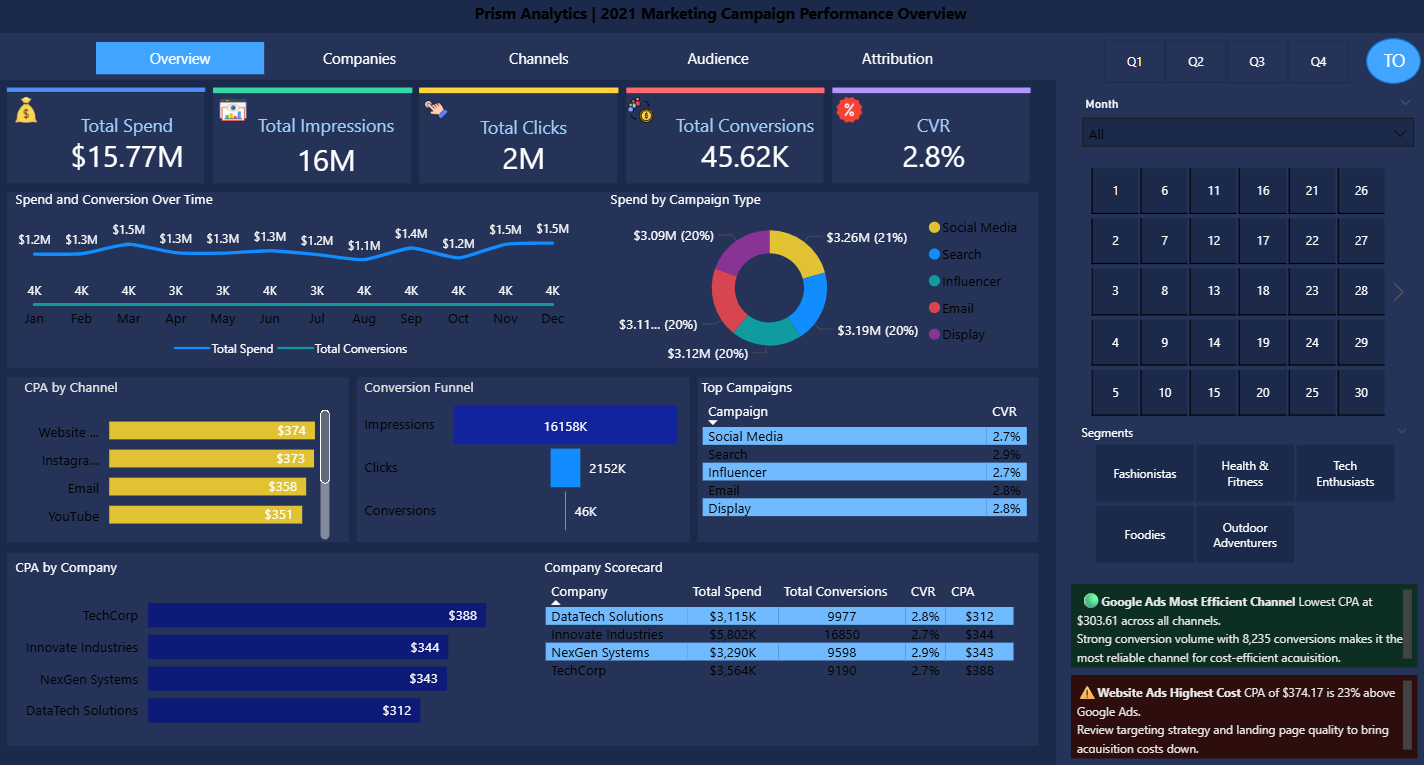

The dashboard page shown, as its layout file describes it:
{"tool":"powerbi","page":{"name":"Overview","canvas":[1280,720],"ordinal":0},"visuals":[{"type":"card","title":"Total Spend","fields":{"Values":["CalcMeasures.Total Spend"]},"box":[52.1,131.1,125.7,56.6],"z":0},{"type":"card","title":"Total Impressions","fields":{"Values":["CalcMeasures.Total Impressions"]},"box":[219.1,131.1,149,63.7],"z":1000},{"type":"card","title":"Total Conversions","fields":{"Values":["CalcMeasures.Total Conversions"]},"box":[592.5,131.1,154.4,56.6],"z":2000},{"type":"card","title":"Total Clicks","fields":{"Values":["CalcMeasures.Total Clicks"]},"box":[382.4,132.9,176.9,56.6],"z":3000},{"type":"card","title":"CVR","fields":{"Values":["CalcMeasures.CVR"]},"box":[777.5,131.1,123,56.6],"z":4000},{"type":"donutChart","title":"Spend by Campaign Type","fields":{"Category":["Dim_CampaignType.Campaign_Type"],"Y":["CalcMeasures.Total Spend"]},"box":[544,200.2,384.2,159.8],"z":5000},{"type":"clusteredBarChart","title":"CPA by Channel","fields":{"Category":["Dim_Platform.Platfrom"],"Y":["CalcMeasures.CPA"]},"box":[18,369,283.7,149.9],"z":6000},{"type":"funnel","title":"Conversion Funnel","fields":{"Category":["Stages.Stage"],"Y":["CalcMeasures.Funnel Value"]},"box":[323.2,369,295.4,145.4],"z":7000},{"type":"tableEx","title":"Top Campaigns","fields":{"Values":["Dim_CampaignType.Campaign_Type","CalcMeasures.CVR"]},"box":[625.7,369,302.5,145.4],"z":8000},{"type":"barChart","fields":{"Category":["Dim_Company.Company"],"Y":["CalcMeasures.CPA"]},"box":[9.9,530.6,464.1,165.2],"z":9000},{"type":"tableEx","title":"Company Scorecard","fields":{"Values":["Dim_Company.Company","CalcMeasures.Total Spend","CalcMeasures.Total Conversions","CalcMeasures.CVR","CalcMeasures.CPA"]},"box":[484.8,530.6,431.8,165.2],"z":10000},{"type":"slicer","fields":{"Values":["Date_Dim.Day"]},"box":[958.8,177.8,317.8,246.9],"z":11000},{"type":"slicer","fields":{"Values":["Date_Dim.Month Name"]},"box":[962.4,111.3,317.8,56.6],"z":12000},{"type":"lineChart","title":"Spend and Conversion Over Time","fields":{"Category":["Date_Dim.Month Short"],"Y":["CalcMeasures.Total Spend","CalcMeasures.Total Conversions"]},"box":[9.9,200.2,509,159.8],"z":13000},{"type":"pageNavigator","box":[87.1,67.3,795.4,29.6],"z":14000},{"type":"slicer","fields":{"Values":["Dim_Segment.Segment_Clean"]},"box":[958.8,404.9,317.8,137.4],"z":15000},{"type":"textbox","box":[962.4,553.9,310.6,75.4],"z":16000},{"type":"textbox","box":[962.4,635.6,310.6,74.5],"z":17000},{"type":"shape","box":[1227.2,63.7,49.4,41.3],"z":18000},{"type":"textbox","box":[1238,67.3,38.6,34.1],"z":19000},{"type":"advancedSlicerVisual","fields":{"Values":["Date_Dim.Quarter"]},"box":[987.5,60.1,231.6,49],"z":20000},{"type":"textbox","box":[421.9,26.9,460.5,33.2],"z":21000},{"type":"image","box":[9.9,116.7,29.6,23.3],"z":22000},{"type":"image","box":[192.1,116.7,35.9,23.3],"z":23000},{"type":"image","box":[376.2,116.7,33.2,23.3],"z":24000},{"type":"image","box":[559.3,116.7,33.2,23.3],"z":25000},{"type":"image","box":[746.9,116.7,33.2,23.3],"z":26000}]}

Visuals, with their boxes on the page's 1280x720 design canvas (x1, y1, x2, y2). These are canvas units, not pixel positions in the 1424x765 screenshot, which may show the page scaled, cropped or inside an application window:
"Total Spend" card: locate(52, 131, 178, 188)
"Total Impressions" card: locate(219, 131, 368, 195)
"Total Conversions" card: locate(592, 131, 747, 188)
"Total Clicks" card: locate(382, 133, 559, 190)
"CVR" card: locate(778, 131, 900, 188)
"Spend by Campaign Type" donutChart: locate(544, 200, 928, 360)
"CPA by Channel" clusteredBarChart: locate(18, 369, 302, 519)
"Conversion Funnel" funnel: locate(323, 369, 619, 514)
"Top Campaigns" tableEx: locate(626, 369, 928, 514)
barChart - Dim_Company.Company x CalcMeasures.CPA: locate(10, 531, 474, 696)
"Company Scorecard" tableEx: locate(485, 531, 917, 696)
slicer - Date_Dim.Day: locate(959, 178, 1277, 425)
slicer - Date_Dim.Month Name: locate(962, 111, 1280, 168)
"Spend and Conversion Over Time" lineChart: locate(10, 200, 519, 360)
pageNavigator: locate(87, 67, 882, 97)
slicer - Dim_Segment.Segment_Clean: locate(959, 405, 1277, 542)
textbox: locate(962, 554, 1273, 629)
textbox: locate(962, 636, 1273, 710)
shape: locate(1227, 64, 1277, 105)
textbox: locate(1238, 67, 1277, 101)
advancedSlicerVisual - Date_Dim.Quarter: locate(988, 60, 1219, 109)
textbox: locate(422, 27, 882, 60)
image: locate(10, 117, 40, 140)
image: locate(192, 117, 228, 140)
image: locate(376, 117, 409, 140)
image: locate(559, 117, 592, 140)
image: locate(747, 117, 780, 140)
